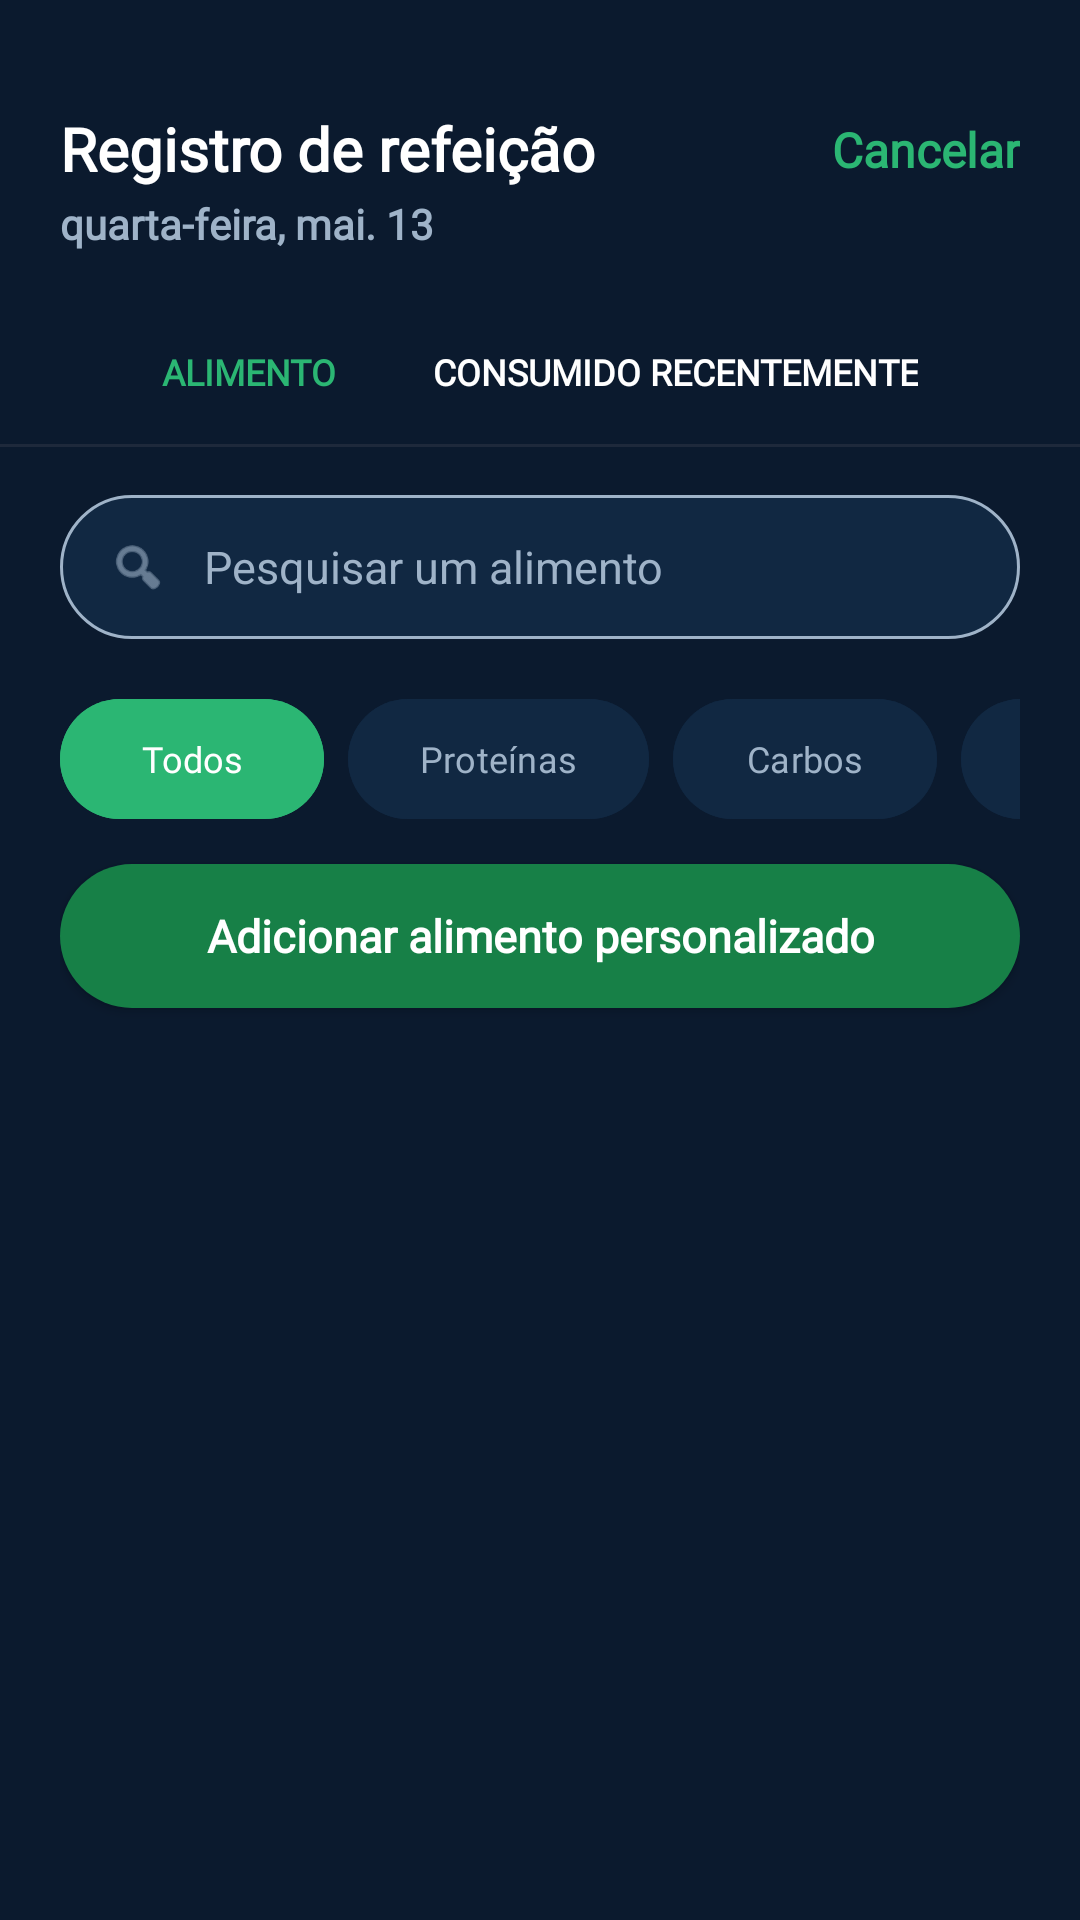

Where to tap for icons on this 1080px×1920px app screen, as point (x, y):
Ícone de busca: point (138, 567)
